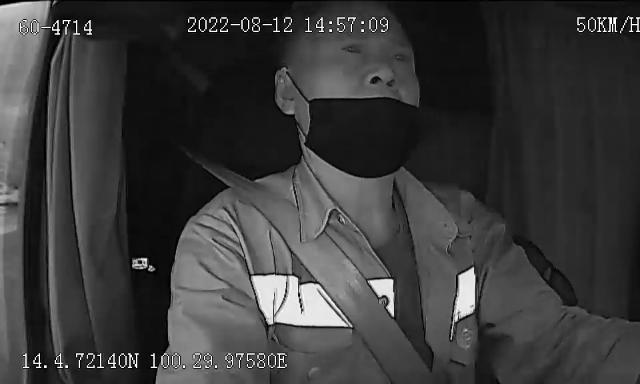SafeDriving: (359, 62, 403, 92)
Seatbelt: (184, 148, 433, 384)
